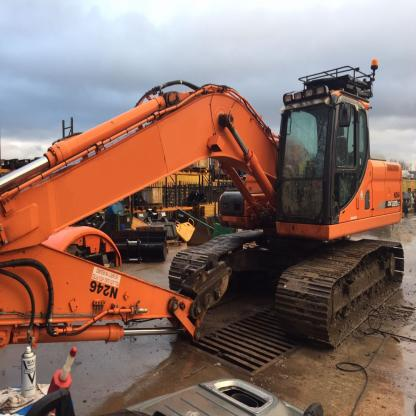excavator: (7, 41, 412, 374)
